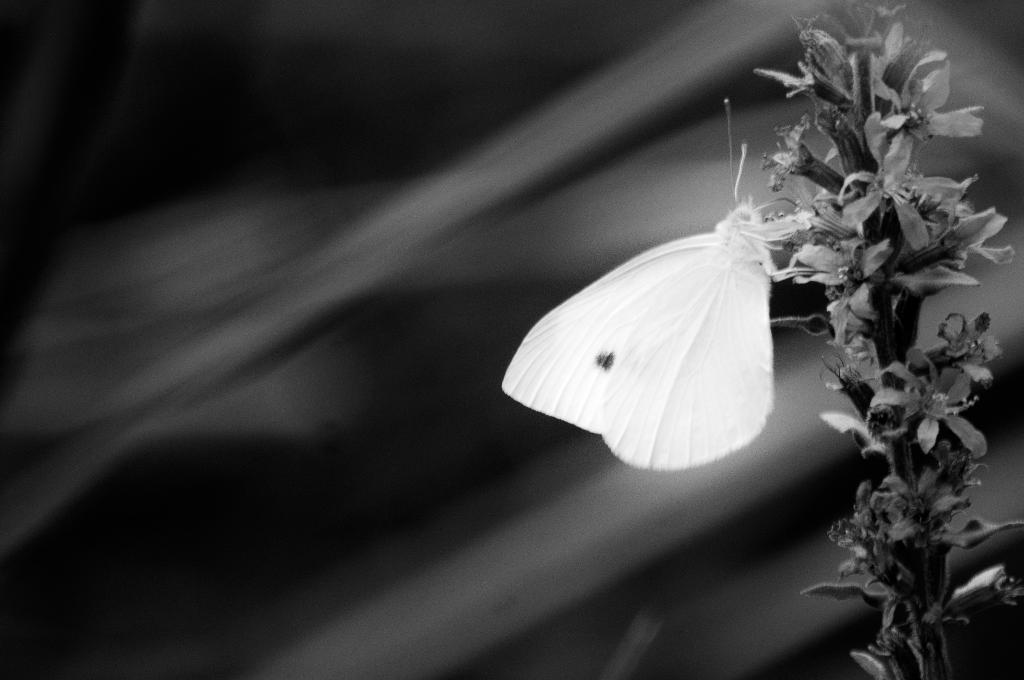Butterfly: (500, 130, 868, 477)
